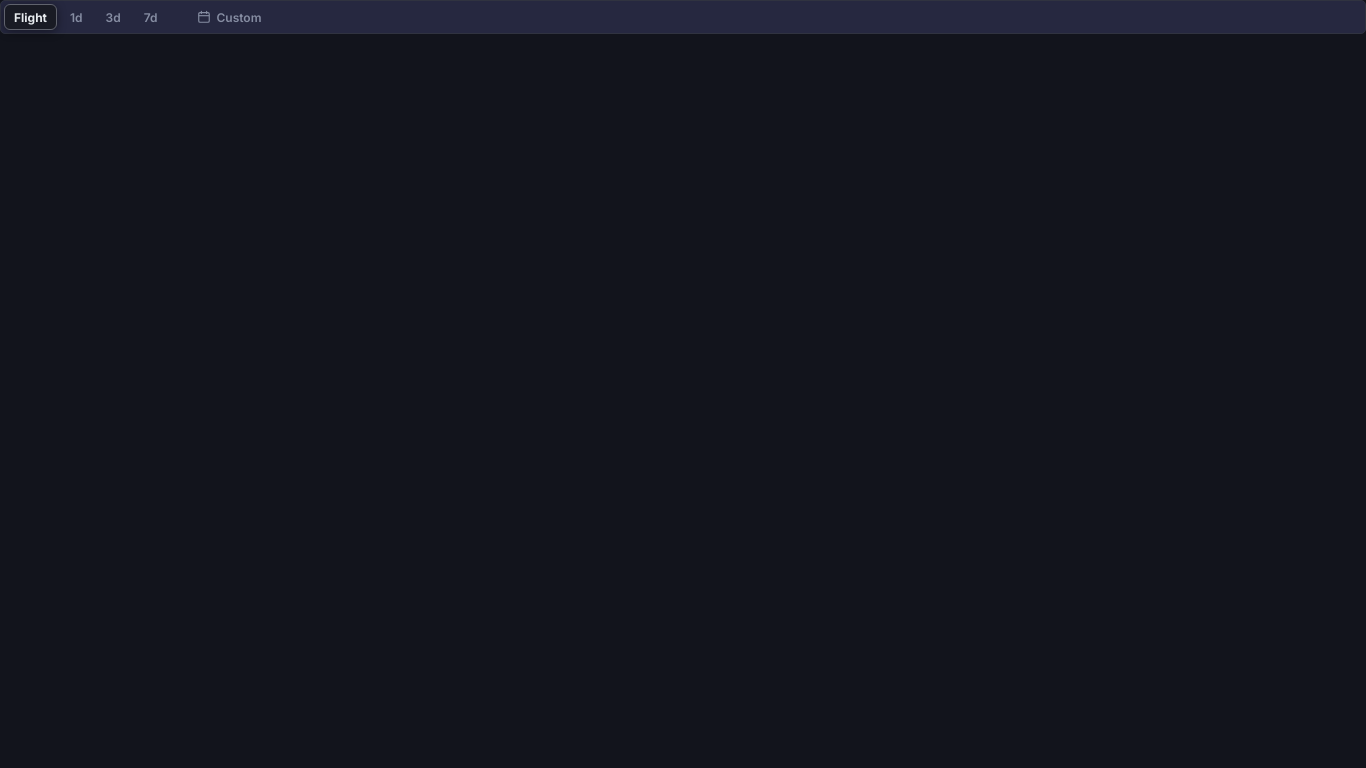
Test: DateRangeControl - the Custom segment IS the calendar trigger › picking a complete range applies it, updates the URL, and the segment reads back the range
Click the tab with aria-label "Custom date range".
click(230, 17)  # box [170, 4, 288, 30]
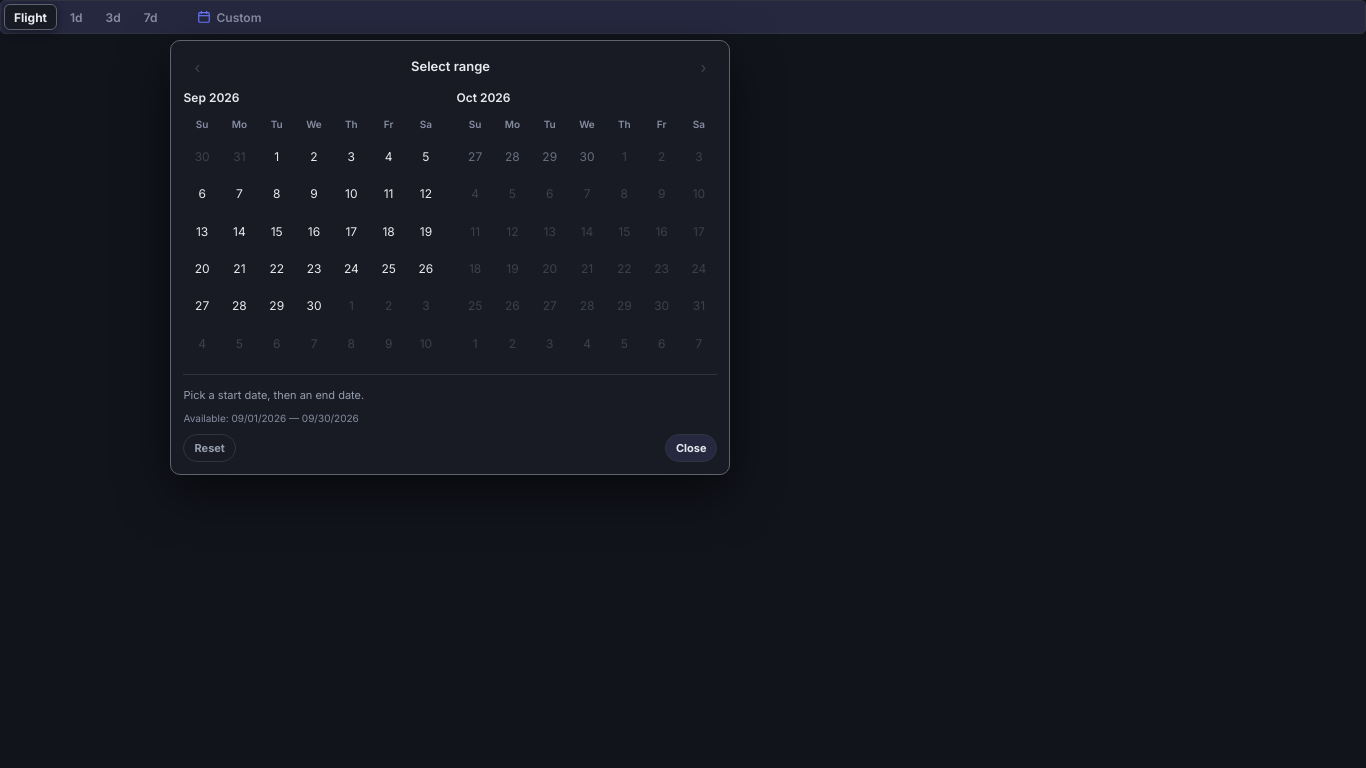
Click the 1st button "1".
click(277, 157)  # box [258, 138, 295, 175]
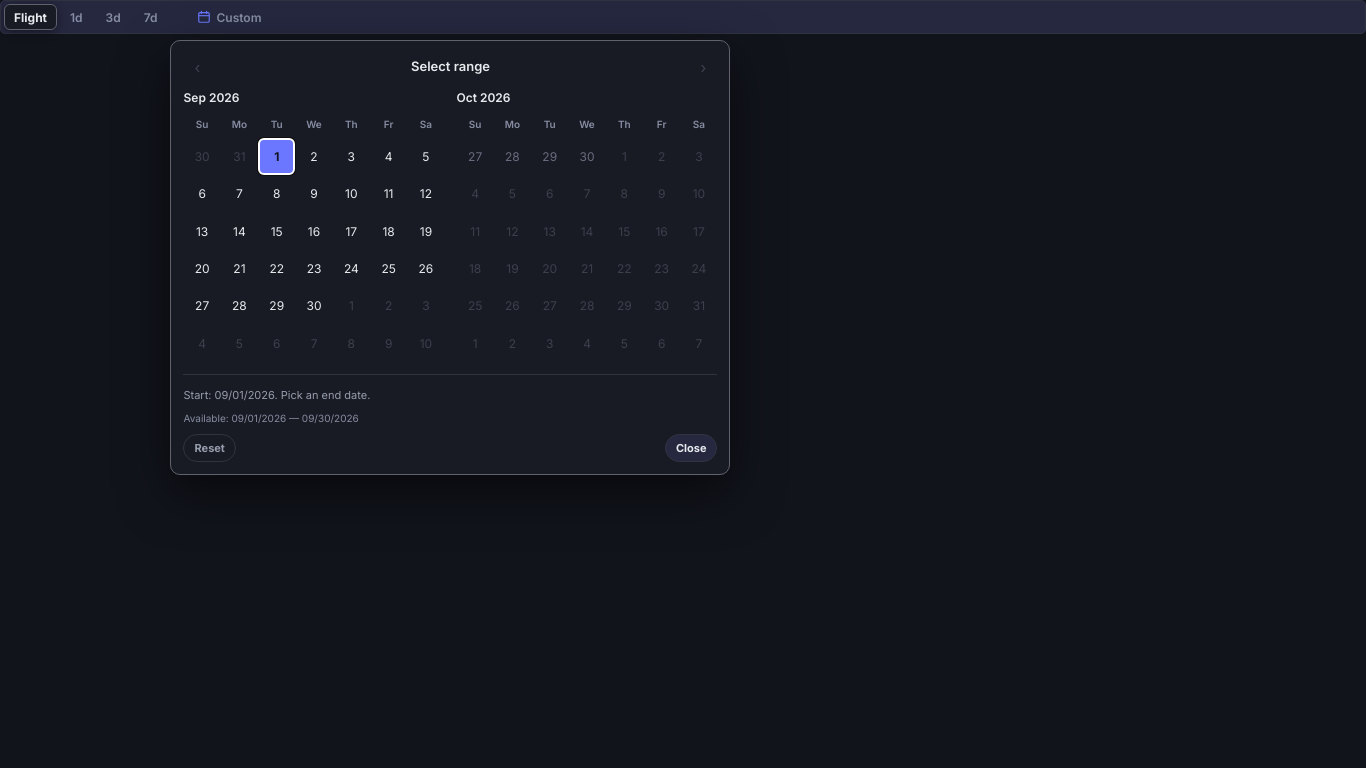
Click the 1st button "10".
click(351, 194)  # box [333, 175, 370, 213]
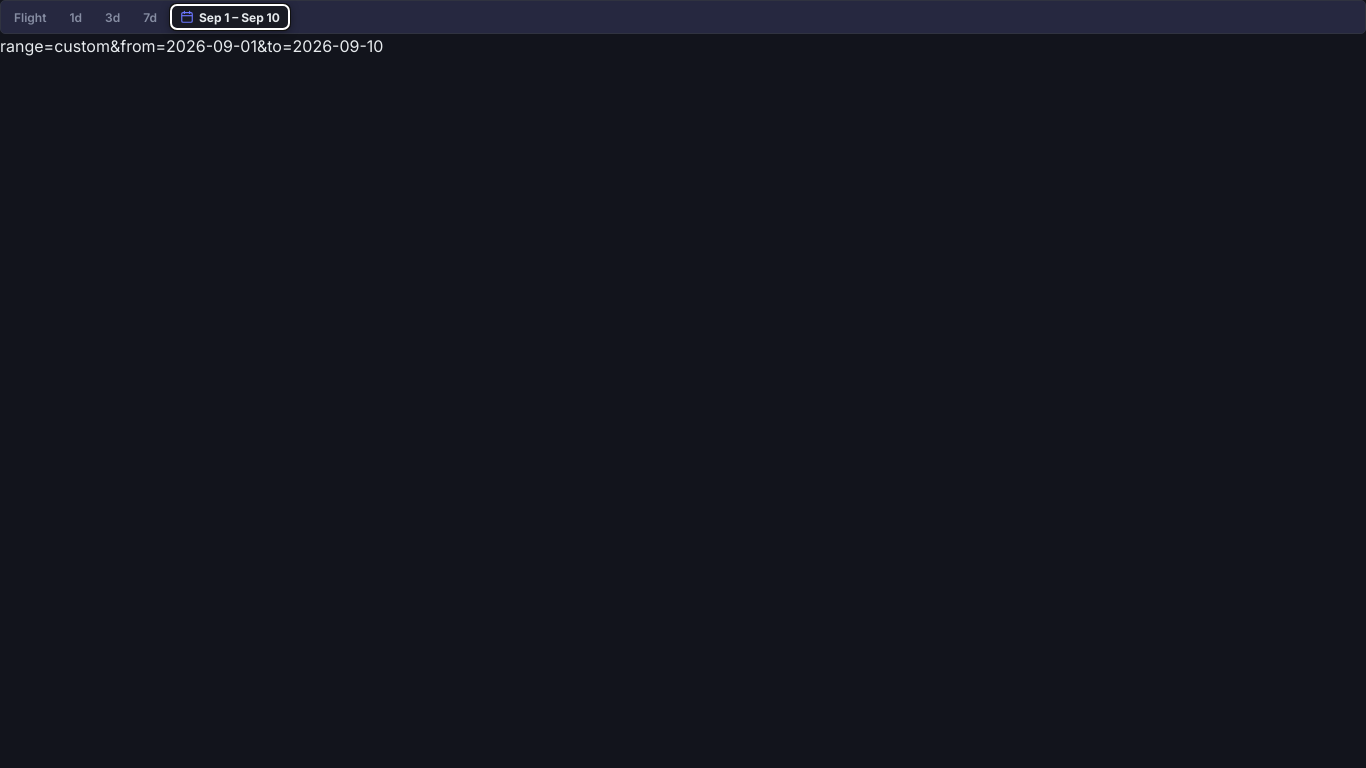
Result: the text with test id "params" reads "range=custom&from=2026-09-01&to=2026-09-10" at [0, 36, 383, 56]
Result: the tab with aria-label "Custom date range: " reads "Sep 1 – Sep 10" at [170, 4, 290, 30]
